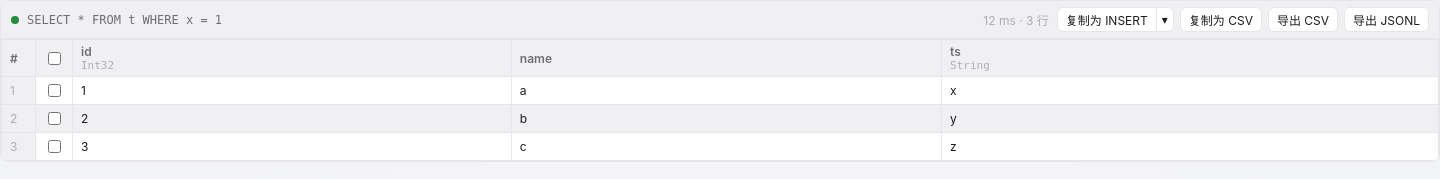
Test: SqlResultCard — 行选择与 INSERT 选项 › rows 变化清空已选
Click the 1st checkbox with test id "row-check". click: click(54, 90)
box: [48, 84, 61, 97]
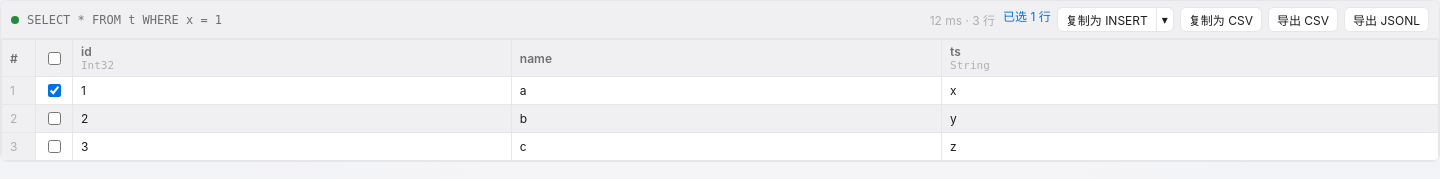
Check: the text "已选 1 行" is shown, box [1003, 7, 1051, 32]
